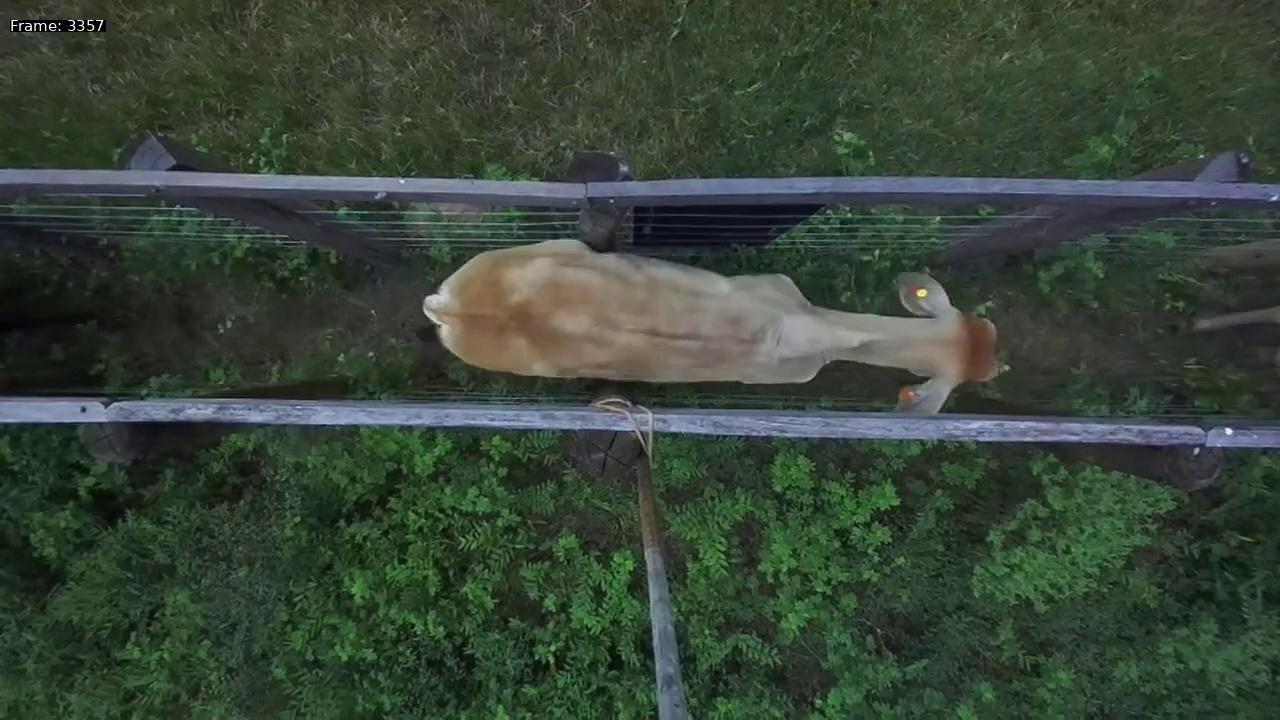cattle: (418, 228, 1006, 431)
